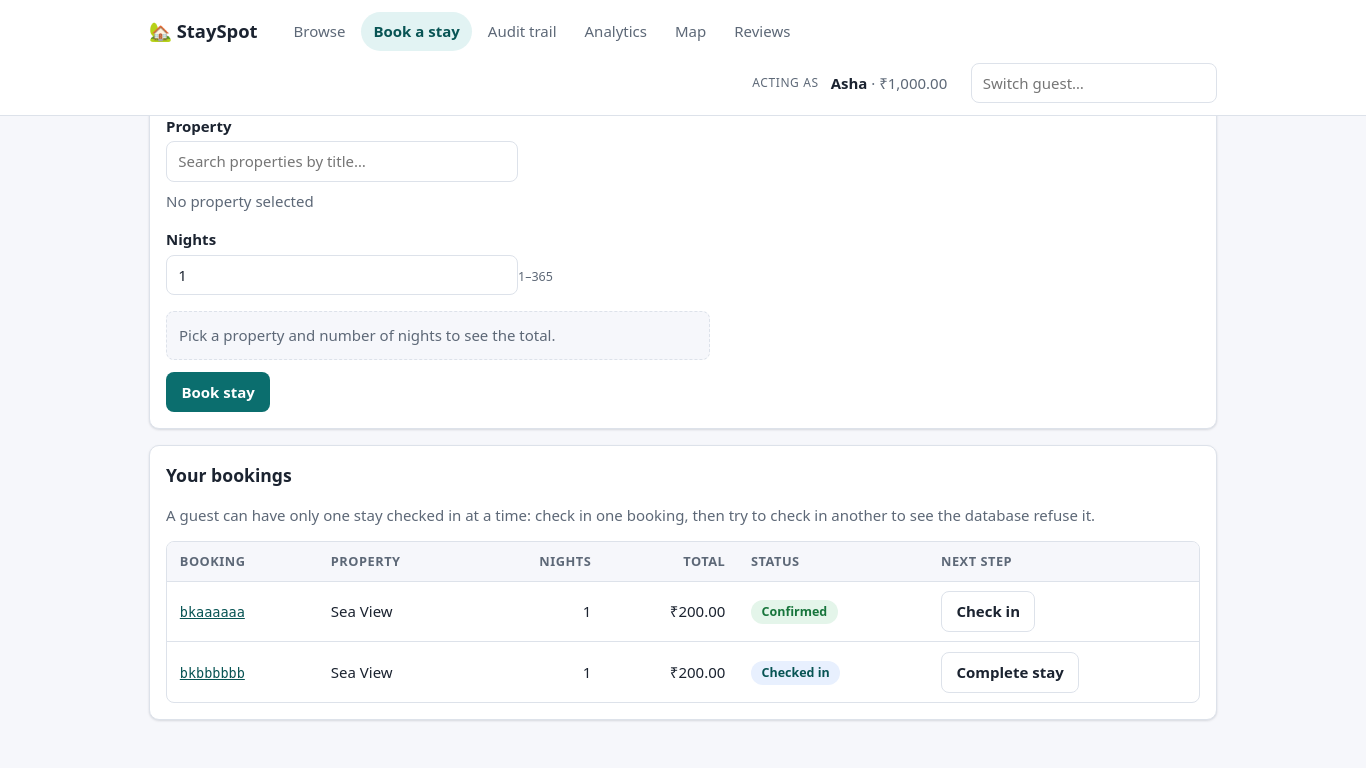
Test: Book a stay › offers the next status step and surfaces the one-active-stay rule
(page scrolled)
Click the button "Check in".
click(988, 612)  # box x1=941 y1=591 x2=1035 y2=632
(page scrolled)
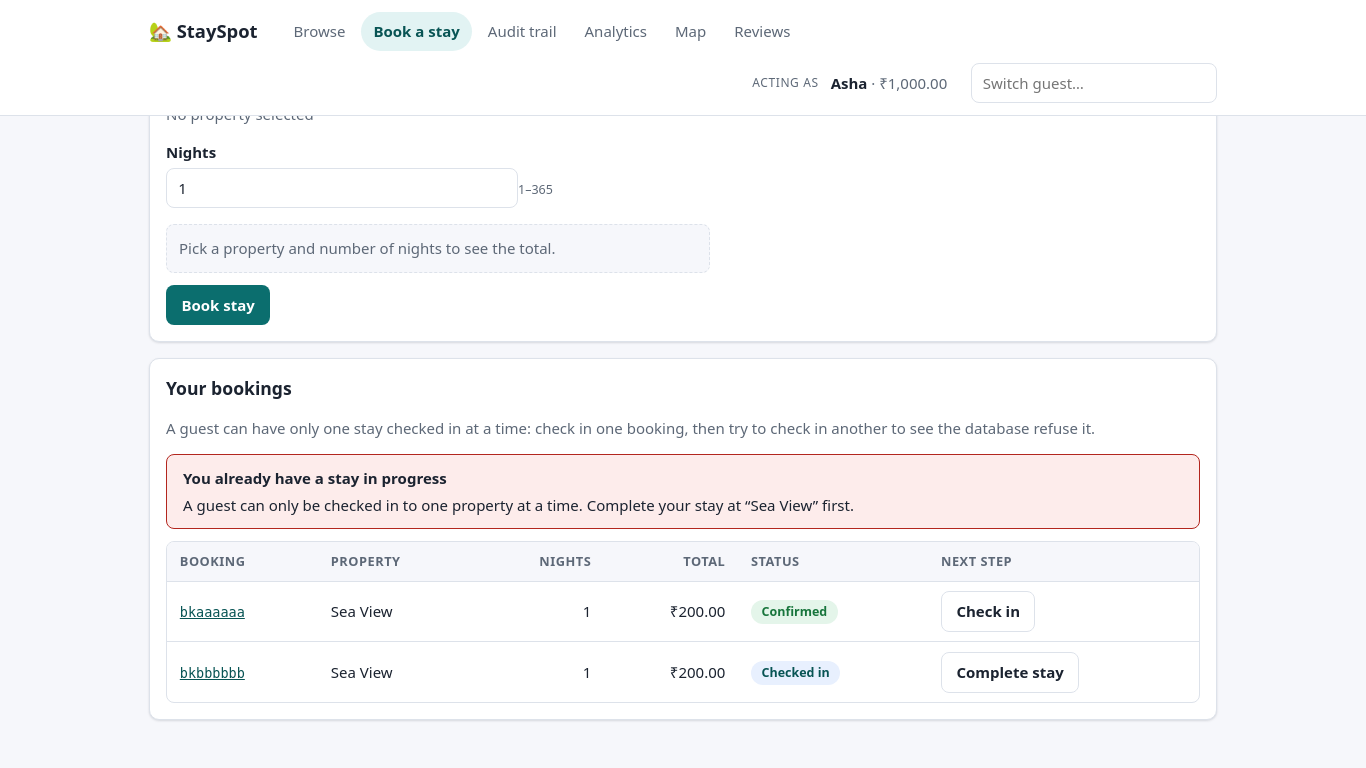
Expected: the button "Complete stay" is shown, x1=941 y1=652 x2=1079 y2=692
Expected: the text "You already have a stay in progress" is shown, x1=183 y1=468 x2=447 y2=488
